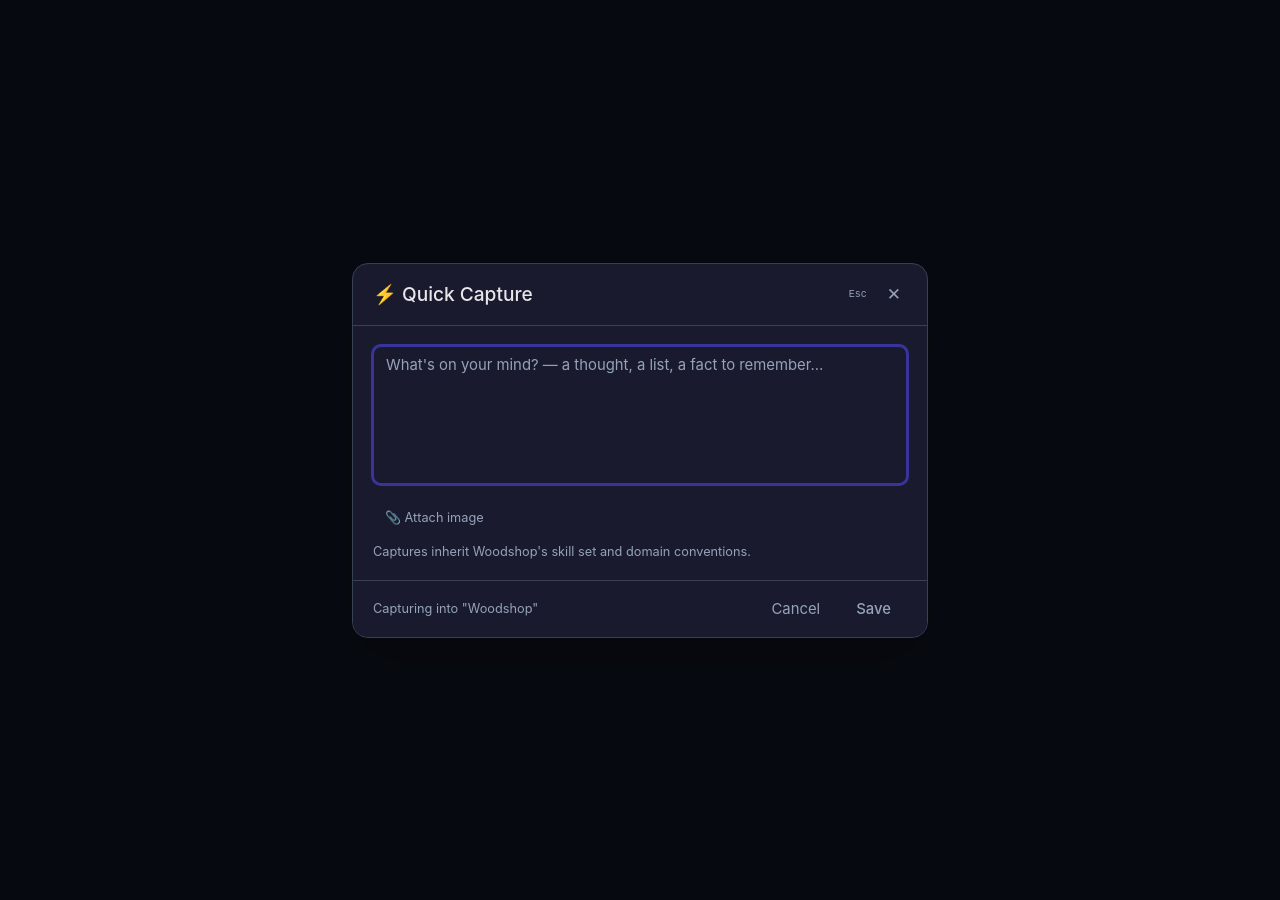
it: QuickCaptureOverlay — extract → confirm → commit happy path › walks the user through extract, renders intents, then commits each accepted intent
Expected: the heading "⚡ Quick Capture" is shown, [373,280,533,308]
Replace the text in the text box with placeholder "What's on your mind" with "bought a new TS 60 blade and need a 1/2-inch shank straight bit". click: (640, 415)
box: [373,346,907,484]
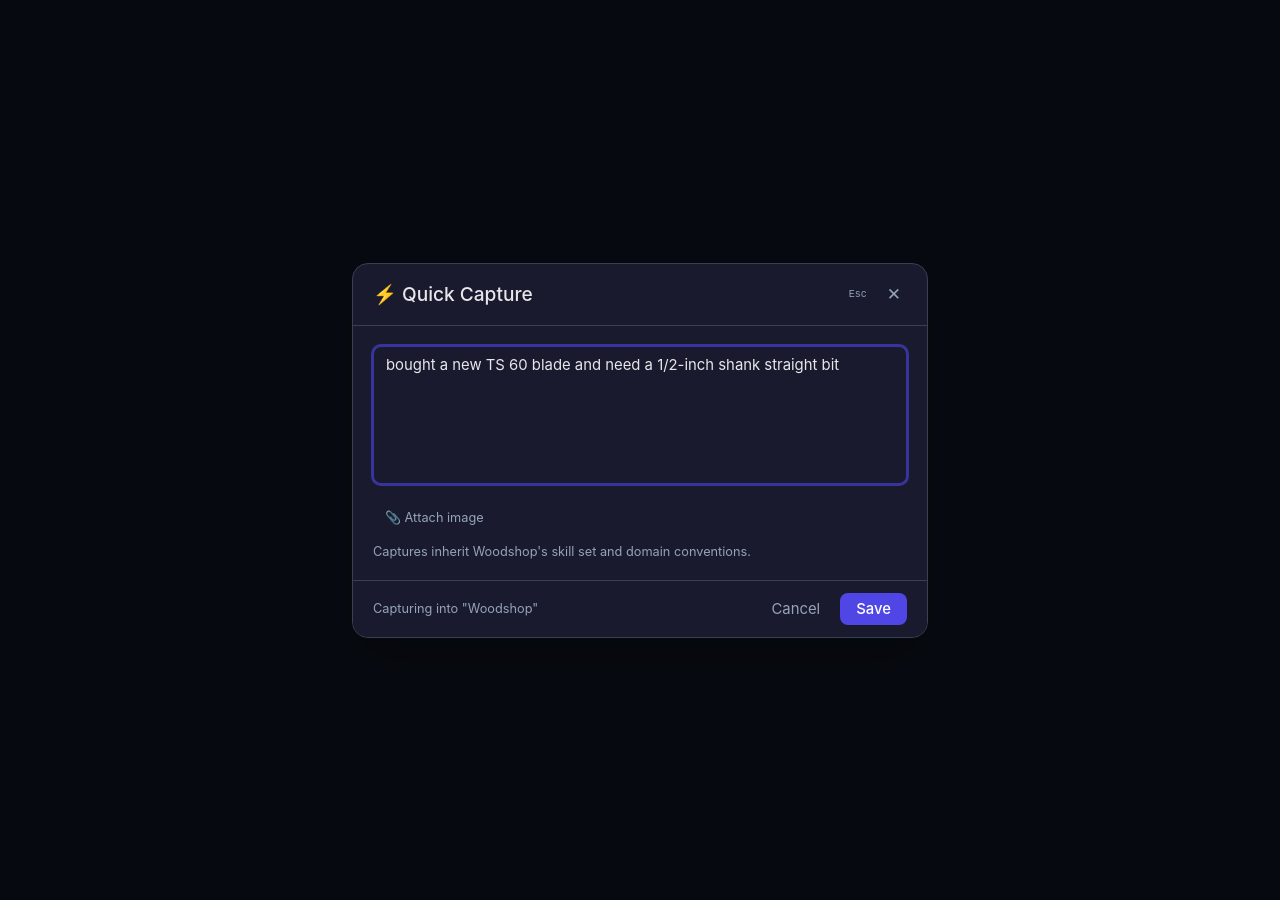
Expected: the button "Save" is enabled
# ---- Click Save → extract ----
Click the button "Save". click: (874, 608)
box: [840,592,907,624]
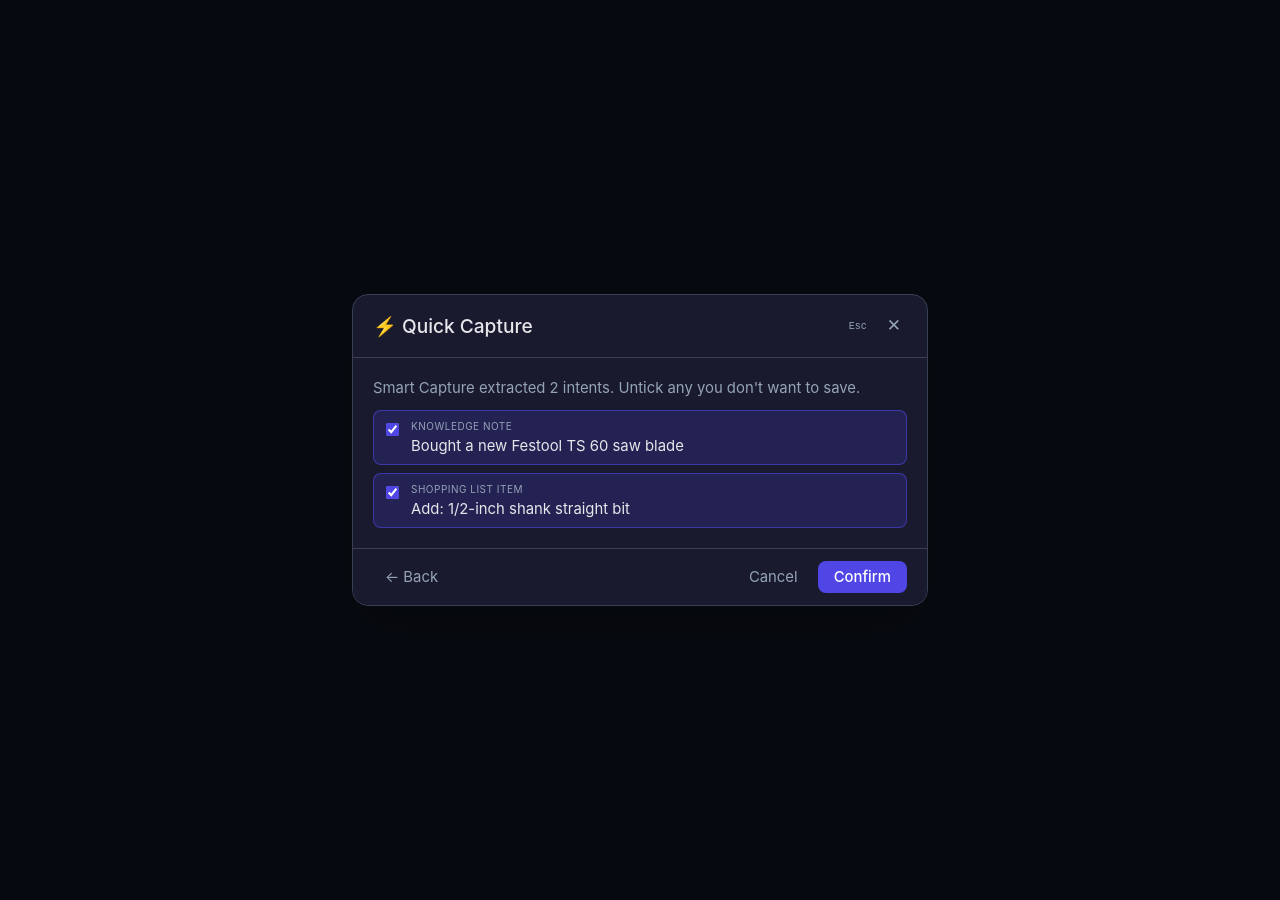
Expected: the text "Bought a new Festool TS 60 saw blade" is shown, [411,437,684,455]
Expected: the text "Add: 1/2-inch shank straight bit" is shown, [411,500,630,518]
Expected: the number of checkboxes is 2, [386,423,399,436]; [386,486,399,499]
# ---- Click Confirm → commit ----
Click the button "Confirm". click: (862, 577)
box: [818,561,907,593]
Wait 1500 ms
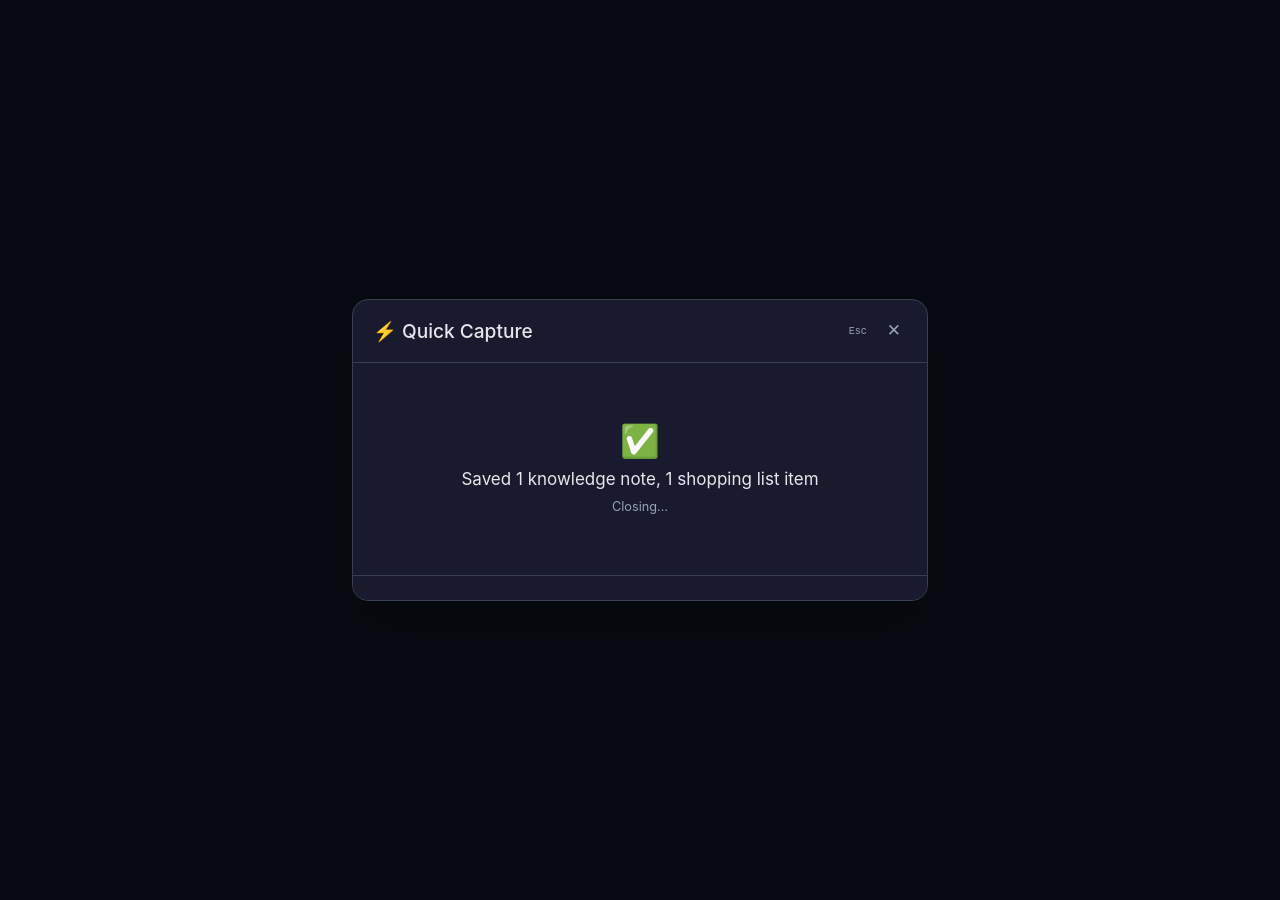
Expected: the text "Saved 1 knowledge note, 1 shopping list item" is shown, [461,467,819,491]
